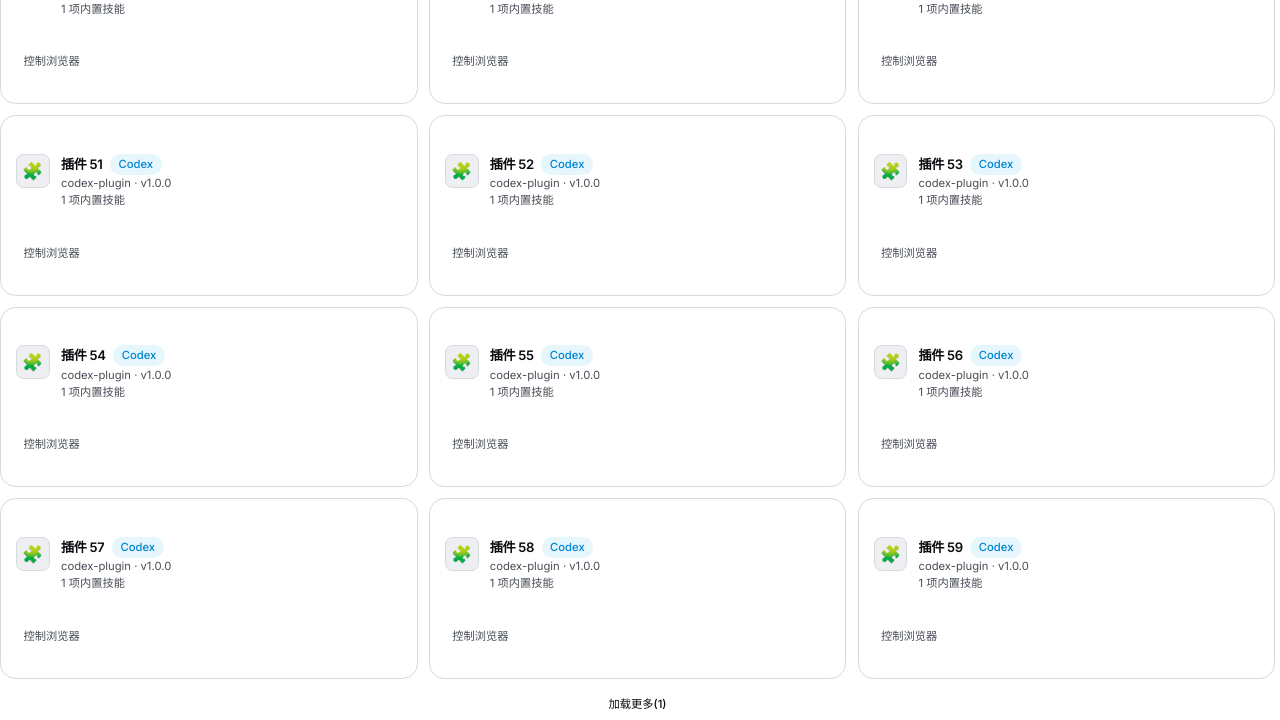
Test: UnifiedAssetsPanel › 按页加载统一资产而不是首屏拉取全部数据
(page scrolled)
Click the button "加载更多(1)" at point(638, 705), box [597,690,678,719]
(page scrolled)
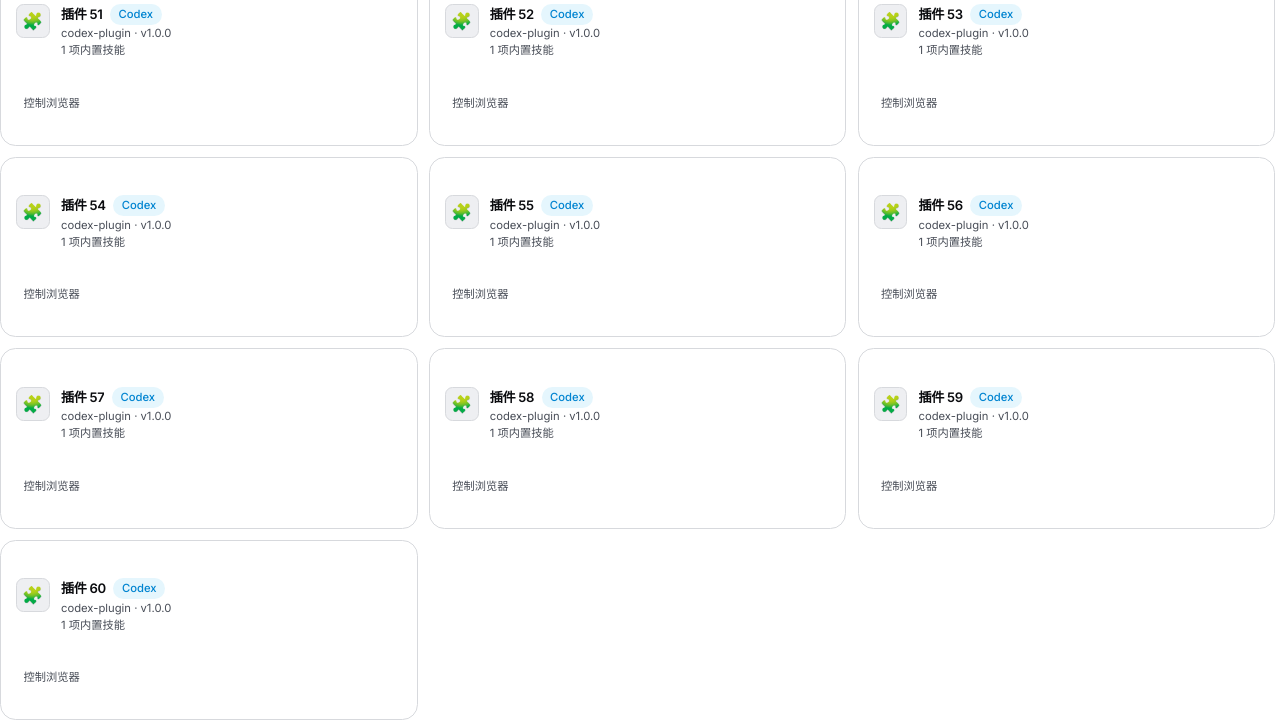
Check: the text "插件 60" is shown, box [61,579,106,598]
